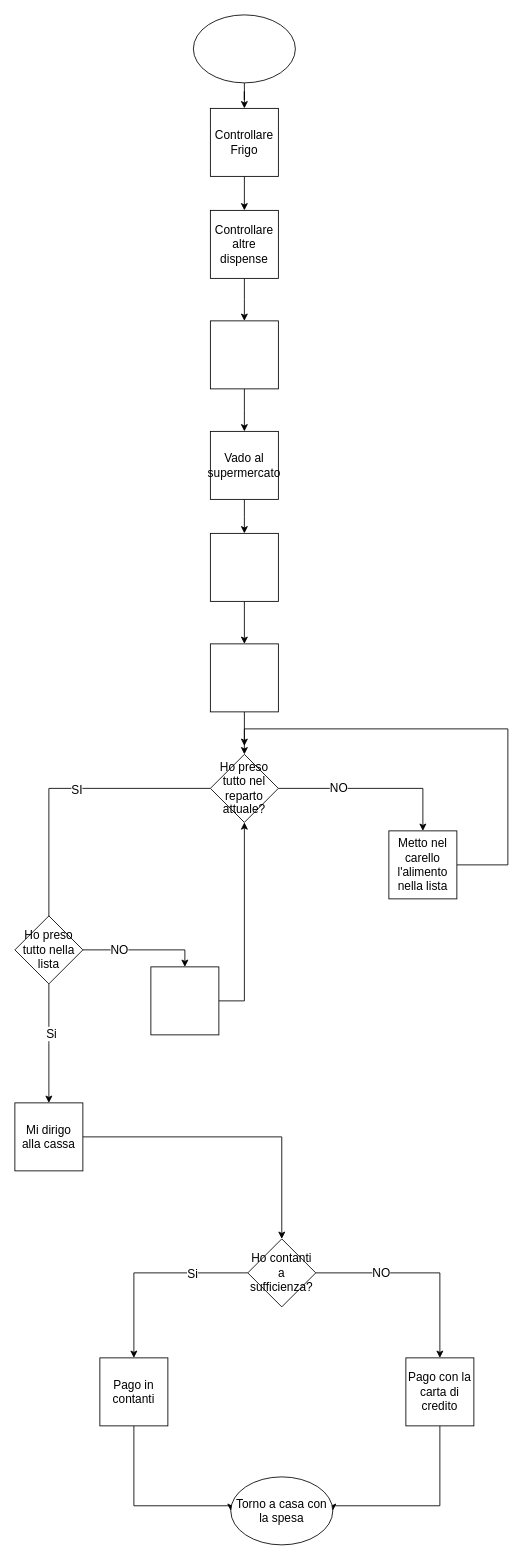
Image size: 530x1560. Some labels were removed from this diagram. The centre of each missing label's shape, as x and y in pixels:
"Fare la lista degli alimenti mancanti" belongs at point (244, 354).
"Fare la spesa seguendo una Lista" belongs at point (244, 48).
"Mi recco al primo reparto" belongs at point (244, 677).
"Mi recco al prossimo reparto" belongs at point (184, 1000).
"Prendo il carello" belongs at point (244, 567).
